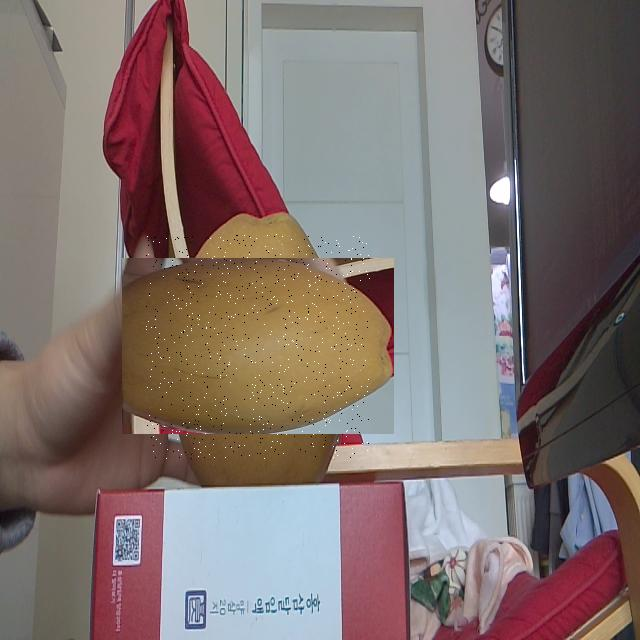pear: (146, 234, 370, 459)
